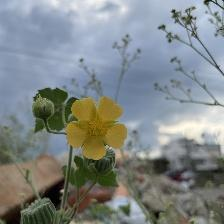indian mallow: (65, 95, 130, 160)
